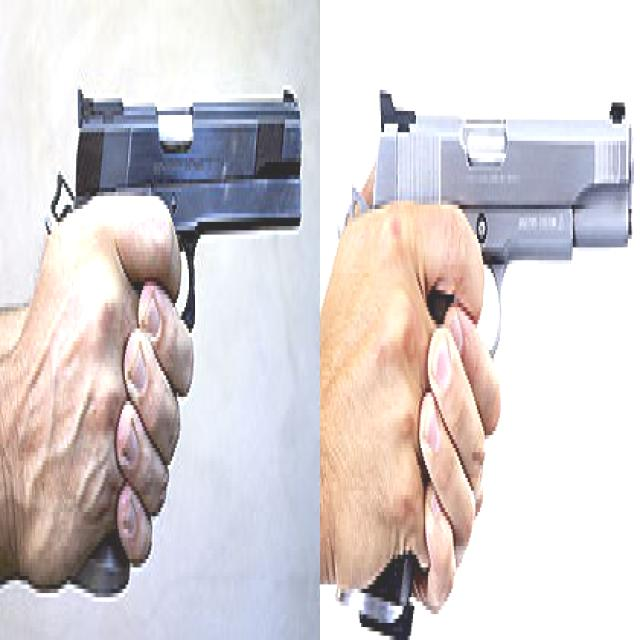pistol: (331, 68, 632, 606), (47, 47, 299, 593)
